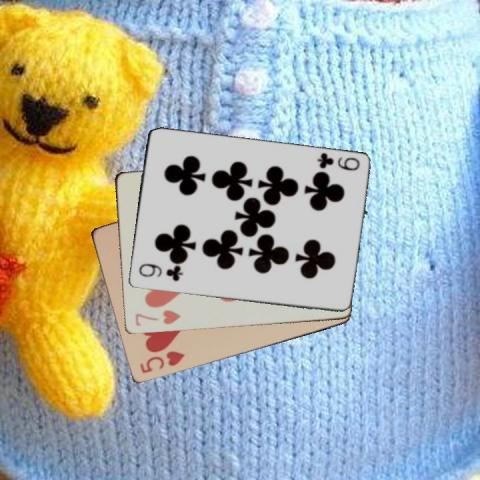5h: (136, 348, 187, 375)
7h: (132, 307, 182, 328)
9c: (313, 150, 361, 173), (135, 262, 184, 283)
